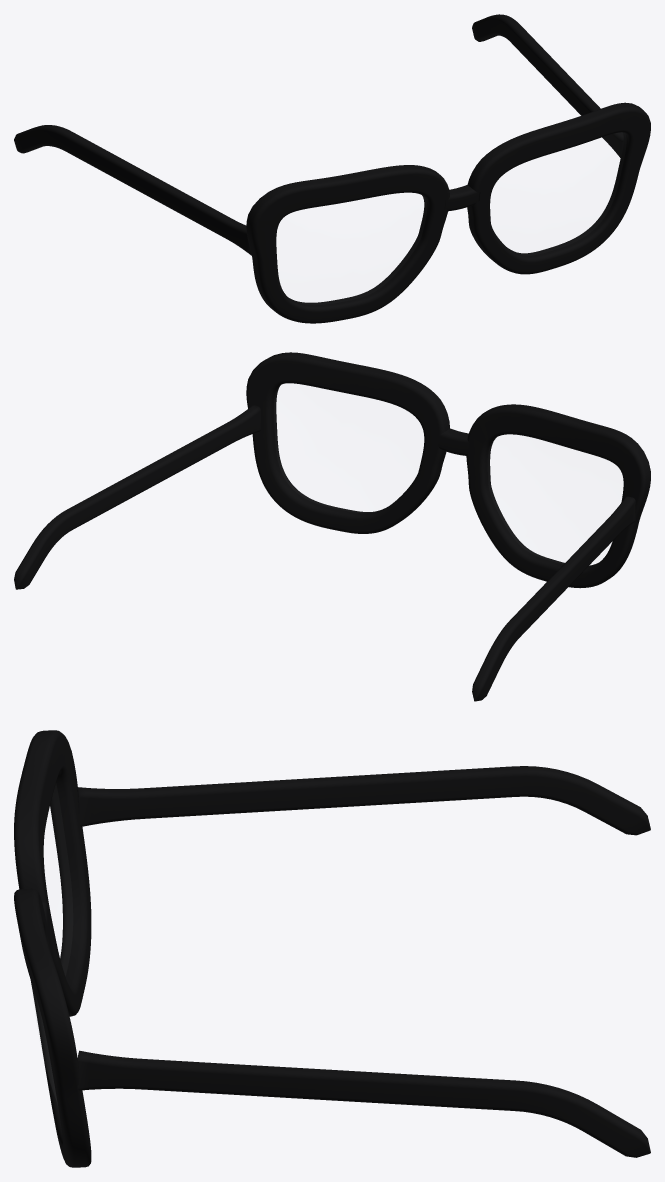
File: wayfarer.glb
3 views of the same model, one above another, from view 1: azimuth 30°, elevation 25°; view 2: azimuth 150°, elevation 25°; view 3: azimuth 270°, elevation 25° (orthographic). The views are drawn at different scales.
Parts seen in each view (by area): view 1: glasses; view 2: glasses; view 3: glasses.
Boxes of the visible parts, bbox=[...] form: glasses: bbox=[14, 14, 650, 323]; glasses: bbox=[14, 352, 650, 701]; glasses: bbox=[14, 730, 650, 1167].
Bounding box in the file's own units: 0.1707 × 0.0537 × 0.1393.
Materials: 2 (1 with a texture image).
